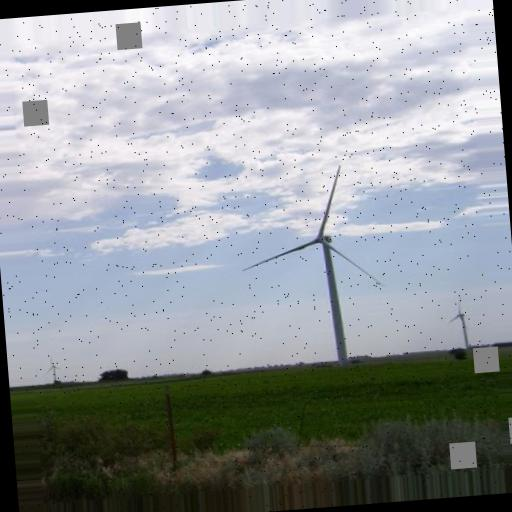wind turbine: (241, 165, 384, 364)
